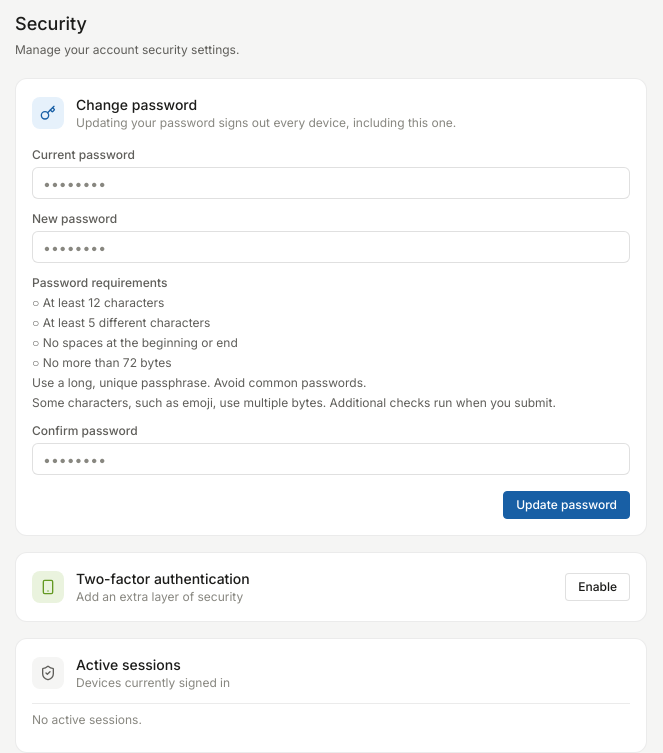
Test case: change password › explains empty fields and confirmation mismatch
Expected: the list item "At least 12 characters" is shown, [43,295,164,310]
Click the button "Update password" at (567, 505), box [503,491,630,519]
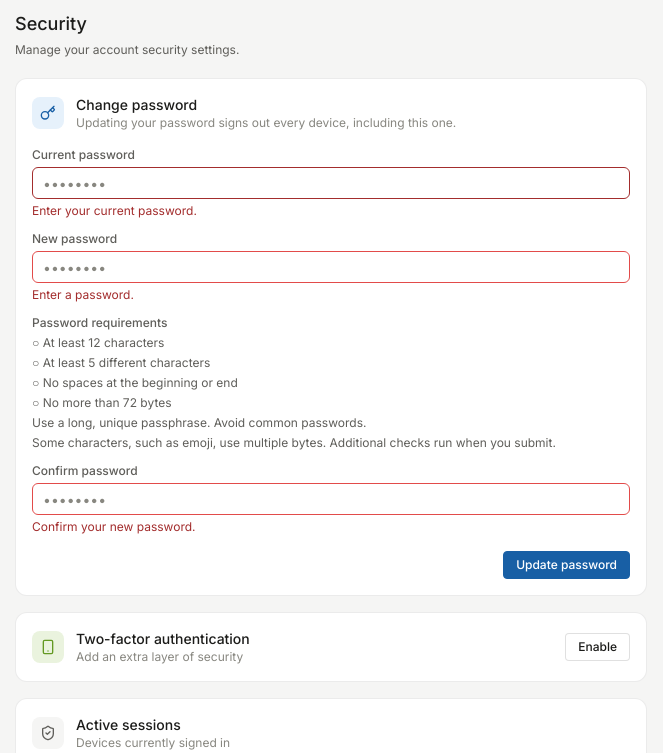
Type "old" into the password field labelled "Current password" at (331, 183), box [32,167,630,199]
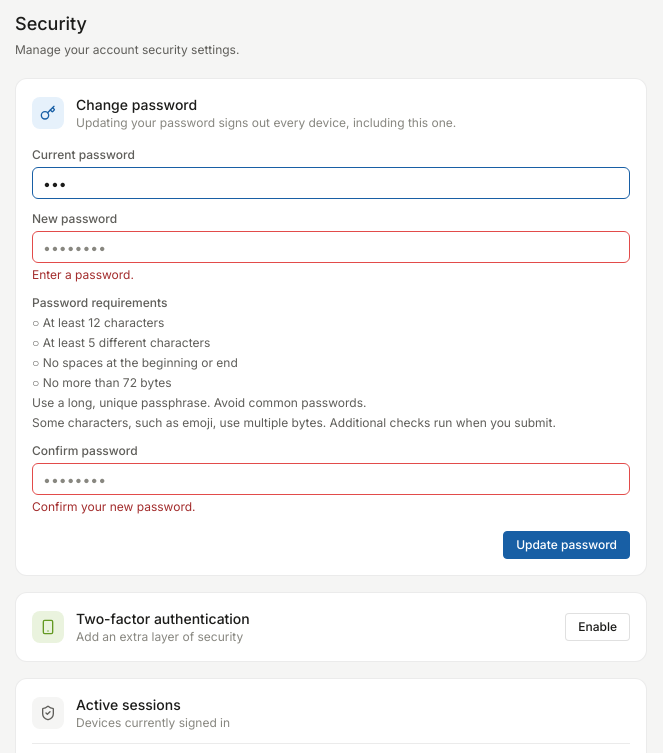
Type "trombone-marmalade-97" into the password field labelled "New password" at (331, 247), box [32,231,630,263]
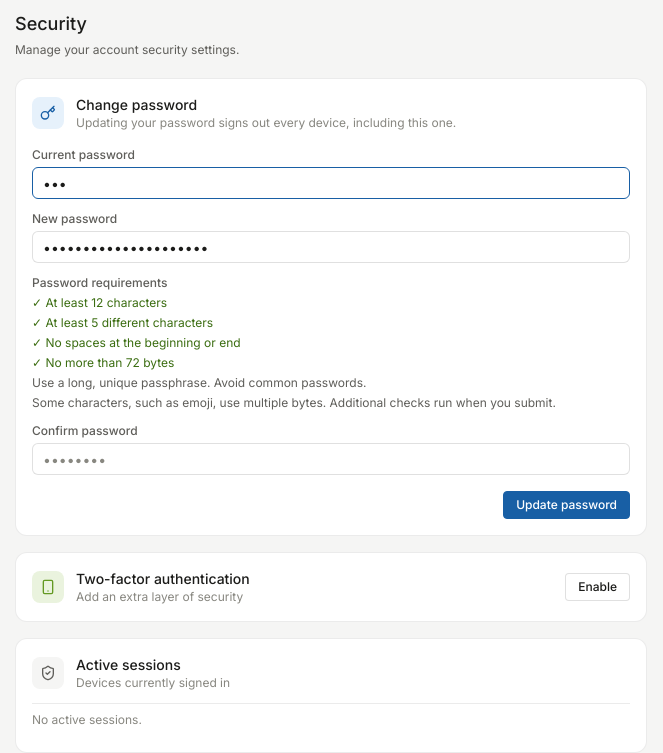
Type "different" into the password field labelled "Confirm password" at (331, 459), box [32,443,630,475]
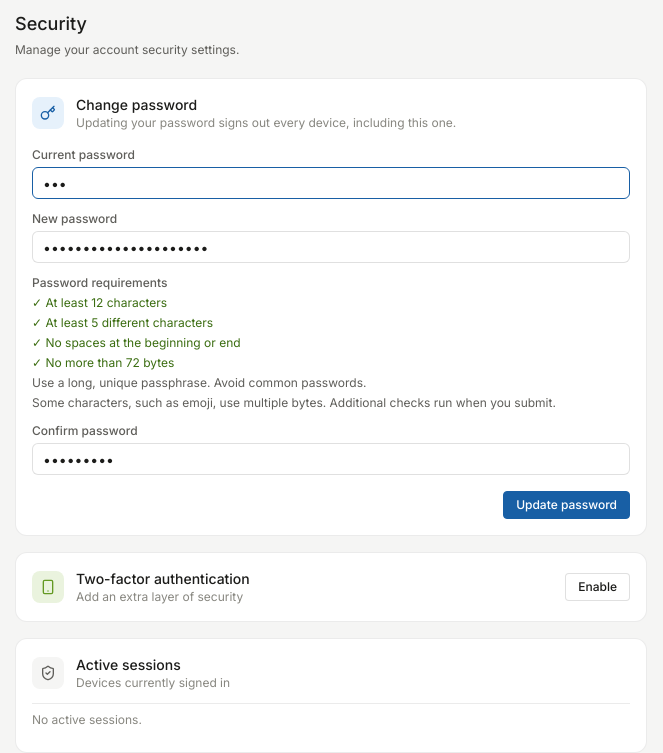
Click the button "Update password" at (567, 505), box [503,491,630,519]
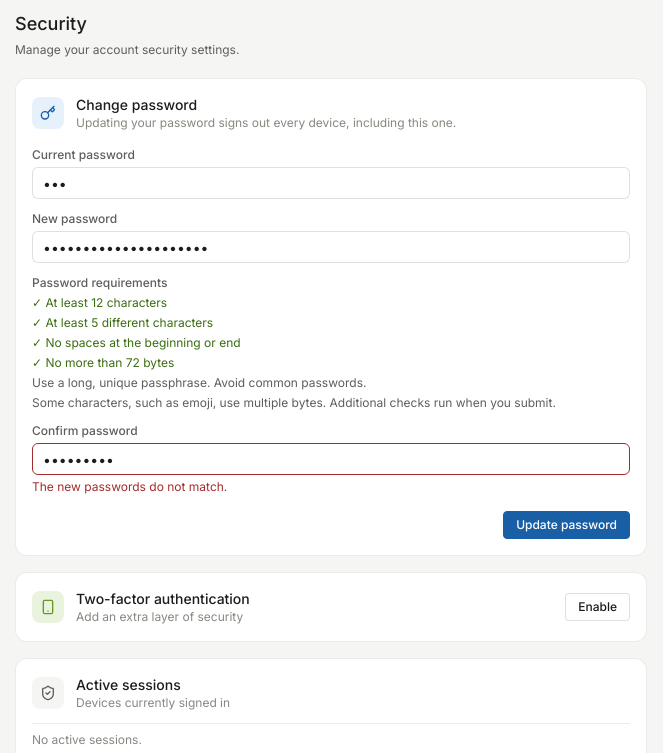
Expected: the message shows "do not match", [32,479,227,494]
